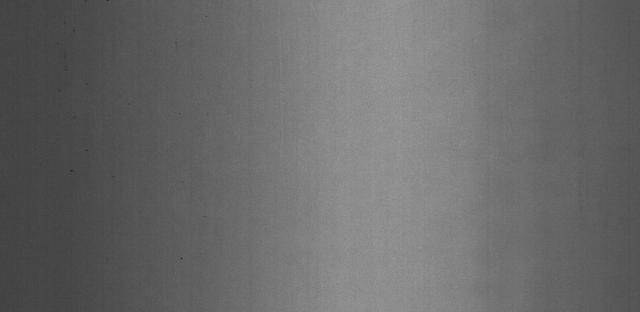inclusion: (59, 159, 89, 183)
